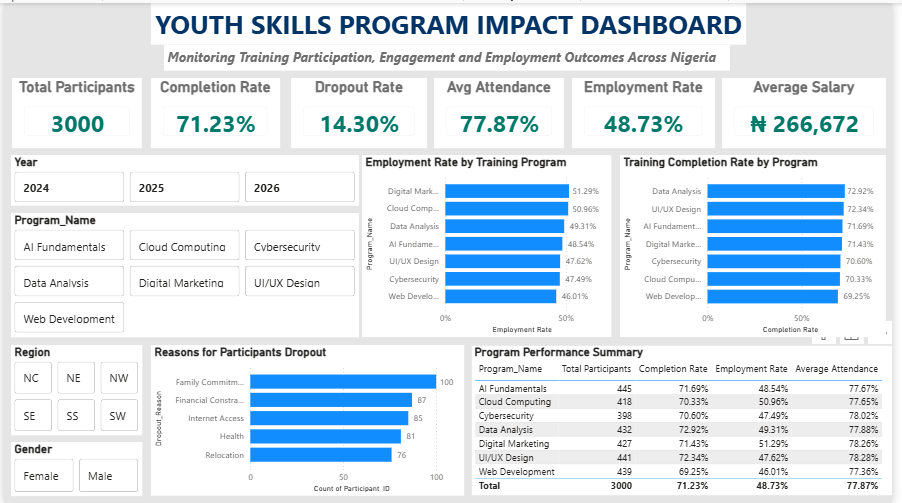

The page's visual inventory and layout, read from the dashboard file:
{"tool":"powerbi","page":{"name":"Executive Overview & Program Impact","canvas":[1280,720],"ordinal":1},"visuals":[{"type":"textbox","box":[211.7,0,856.8,60.5],"z":0},{"type":"textbox","box":[230.4,60.5,815,37.4],"z":1000},{"type":"cardVisual","title":"Total Participants","fields":{"Data":["DAX_Measures.Total Participants"]},"box":[11.5,108,187.2,100.8],"z":2000},{"type":"cardVisual","title":"Completion Rate","fields":{"Data":["DAX_Measures.Completion Rate"]},"box":[211.7,108,185.8,100.8],"z":3000},{"type":"cardVisual","title":"Employment Rate","fields":{"Data":["DAX_Measures.Employment Rate"]},"box":[817.9,108,205.9,100.8],"z":4000},{"type":"cardVisual","title":"Avg Attendance","fields":{"Data":["DAX_Measures.Average Attendance"]},"box":[619.2,108,187.2,100.8],"z":5000},{"type":"cardVisual","title":"Average Salary","fields":{"Data":["DAX_Measures.Average Salary"]},"box":[1033.9,108,236.2,100.8],"z":7000},{"type":"advancedSlicerVisual","fields":{"Values":["Programs.Program_Name"]},"box":[10.1,302.4,501.1,178.6],"z":8000},{"type":"advancedSlicerVisual","fields":{"Values":["Participants.Region"]},"box":[10.1,492.5,188.6,129.6],"z":9000},{"type":"advancedSlicerVisual","fields":{"Values":["Participants.Gender"]},"box":[10.1,632.2,188.6,77.8],"z":10000},{"type":"advancedSlicerVisual","fields":{"Values":["Date_Dimension.Year"]},"box":[10.1,218.9,501.1,73.4],"z":11000},{"type":"clusteredBarChart","title":"Employment Rate by Training Program","fields":{"Category":["Programs.Program_Name"],"Y":["DAX_Measures.Employment Rate"]},"box":[515.5,218.9,358.6,262.1],"z":12000},{"type":"clusteredBarChart","title":"Reasons for Participants Dropout","fields":{"Category":["Participants.Dropout_Reason"],"Y":["CountNonNull(Participants.Participant_ID)"]},"box":[211.6,492.8,450.7,217.4],"z":13000},{"type":"tableEx","title":"Program Performance Summary","fields":{"Values":["Programs.Program_Name","DAX_Measures.Total Participants","DAX_Measures.Completion Rate","DAX_Measures.Employment Rate","DAX_Measures.Average Attendance"]},"box":[672.5,492.8,607.2,217.4],"z":14000},{"type":"cardVisual","title":"Dropout Rate","fields":{"Data":["DAX_Measures.Dropout Rate"]},"box":[413.3,108,195.8,100.8],"z":15000},{"type":"clusteredBarChart","title":"Training Completion Rate by Program","fields":{"Category":["Programs.Program_Name"],"Y":["DAX_Measures.Completion Rate"]},"box":[887,218.8,382.6,262.3],"z":16000}]}

Visuals, with their boxes in screenshot pixels (x1, y1, x2, y2), scaled from the page's 1280x720 canvas onto the 902x503 screenshot:
textbox: 149,0,753,42
textbox: 162,42,737,68
"Total Participants" cardVisual: 8,75,140,146
"Completion Rate" cardVisual: 149,75,280,146
"Employment Rate" cardVisual: 576,75,721,146
"Avg Attendance" cardVisual: 436,75,568,146
"Average Salary" cardVisual: 729,75,895,146
advancedSlicerVisual - Programs.Program_Name: 7,211,360,336
advancedSlicerVisual - Participants.Region: 7,344,140,435
advancedSlicerVisual - Participants.Gender: 7,442,140,496
advancedSlicerVisual - Date_Dimension.Year: 7,153,360,204
"Employment Rate by Training Program" clusteredBarChart: 363,153,616,336
"Reasons for Participants Dropout" clusteredBarChart: 149,344,467,496
"Program Performance Summary" tableEx: 474,344,901,496
"Dropout Rate" cardVisual: 291,75,429,146
"Training Completion Rate by Program" clusteredBarChart: 625,153,895,336
